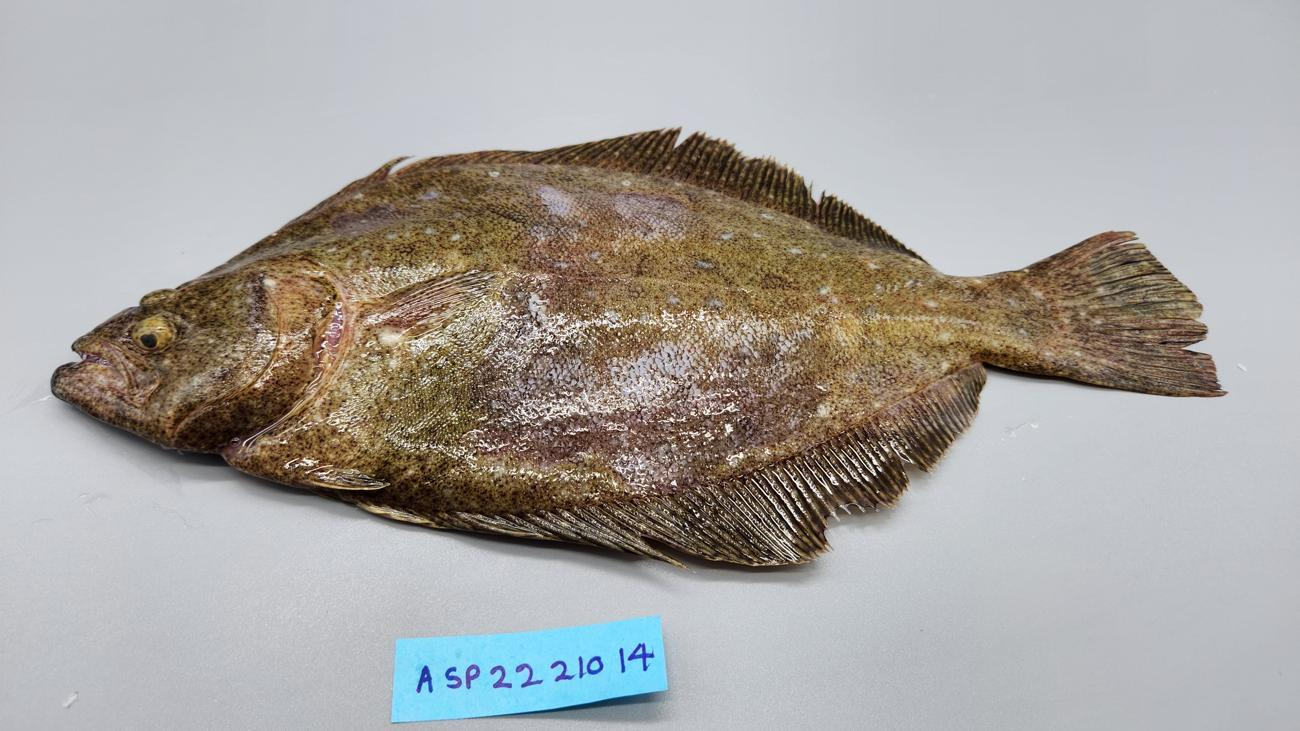SPDYH: (367, 287, 475, 336)
SPOUY: (40, 120, 1234, 581)
